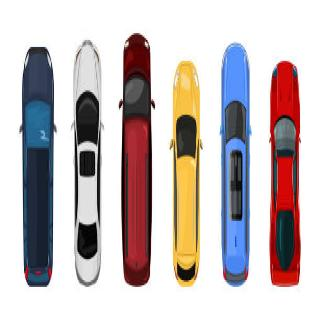Normal_vehicle: (262, 34, 306, 303), (115, 28, 158, 294), (169, 47, 207, 310), (69, 38, 108, 287), (215, 46, 252, 295), (22, 49, 56, 290)
